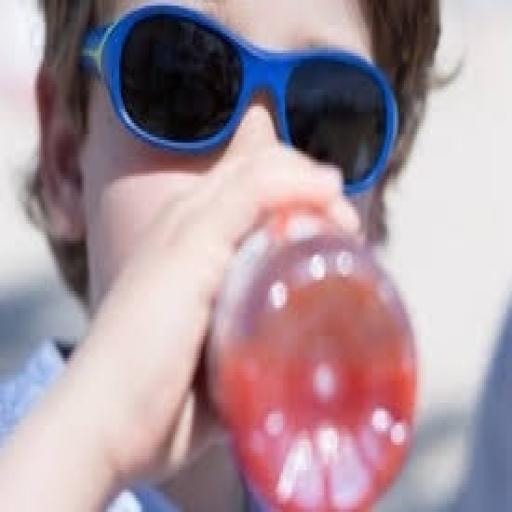drinking: (30, 0, 419, 509)
